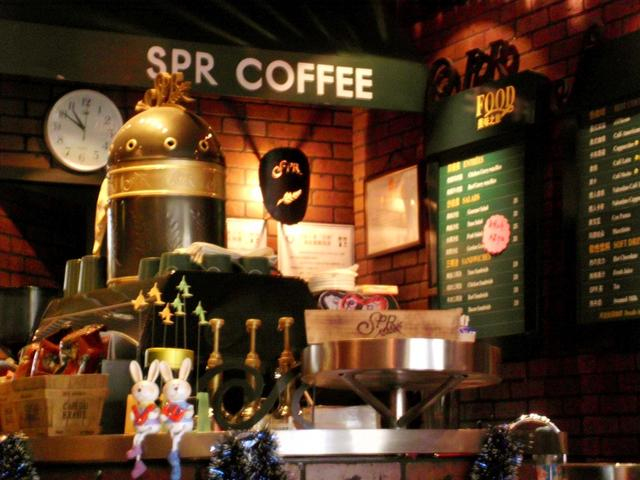rabbit: (100, 334, 166, 449), (159, 348, 202, 456)
